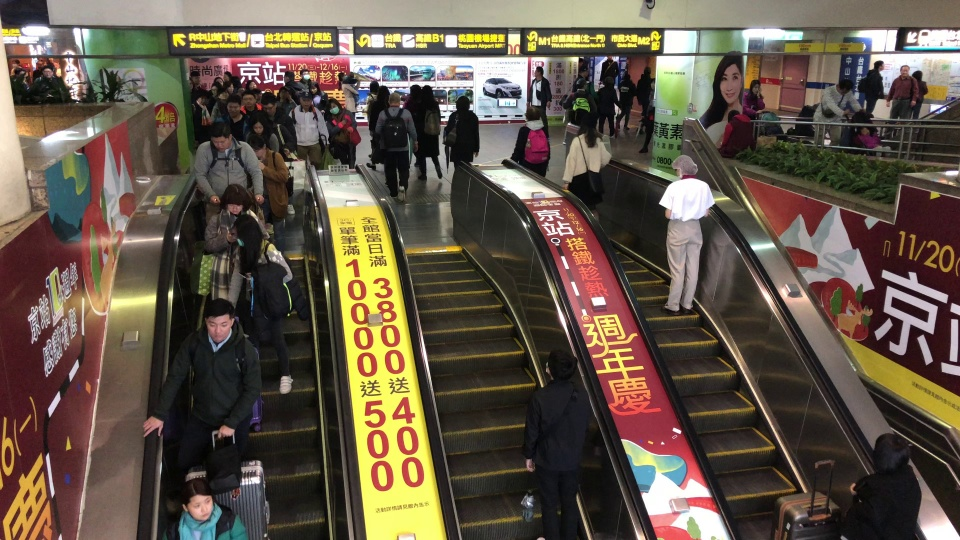person_head: (871, 432, 910, 474), (180, 477, 214, 522), (203, 297, 236, 342), (544, 348, 578, 381), (233, 213, 260, 247), (221, 183, 249, 214), (209, 121, 233, 151), (671, 155, 698, 180), (576, 111, 600, 136), (246, 134, 265, 159), (260, 91, 277, 116), (248, 113, 268, 134), (226, 94, 242, 117), (325, 97, 342, 115), (523, 105, 541, 122), (836, 78, 853, 95), (241, 90, 256, 108), (455, 95, 471, 111), (299, 91, 313, 108), (420, 85, 434, 101), (376, 85, 390, 100), (387, 92, 401, 106), (748, 79, 761, 94), (195, 89, 207, 105), (409, 84, 421, 99), (210, 81, 221, 97), (41, 65, 54, 78), (282, 70, 295, 83), (575, 77, 588, 90), (727, 109, 740, 122), (189, 70, 201, 84), (217, 86, 229, 100), (230, 75, 242, 89), (245, 78, 257, 91), (308, 81, 320, 94), (222, 80, 233, 94), (911, 70, 923, 82), (251, 88, 262, 101), (278, 86, 289, 99), (368, 80, 379, 93), (578, 65, 589, 78), (213, 76, 224, 88), (299, 68, 310, 80), (603, 76, 614, 88), (873, 60, 885, 71), (534, 65, 544, 78), (13, 67, 25, 77), (900, 64, 910, 76), (11, 58, 21, 68), (222, 71, 232, 81), (337, 71, 347, 81), (860, 126, 870, 135), (811, 102, 820, 111), (36, 60, 44, 70), (643, 66, 651, 76), (189, 77, 195, 90), (236, 86, 246, 93), (650, 77, 655, 90), (623, 73, 630, 81), (348, 71, 355, 78), (578, 58, 583, 67), (625, 57, 629, 64), (607, 55, 612, 59)
person_vbox: (142, 298, 263, 478), (521, 349, 591, 540), (232, 213, 294, 395), (657, 155, 715, 317), (839, 432, 922, 540), (192, 121, 265, 227), (202, 183, 268, 297), (560, 111, 611, 224), (245, 134, 289, 261), (161, 478, 250, 540), (375, 91, 418, 202), (812, 78, 866, 148), (287, 92, 329, 170), (510, 105, 550, 178), (266, 117, 296, 214), (413, 85, 442, 182), (444, 95, 480, 169), (325, 97, 357, 169), (260, 91, 297, 153), (365, 84, 390, 171), (886, 64, 919, 124), (525, 65, 552, 138), (717, 109, 756, 159), (401, 84, 422, 168), (562, 78, 597, 127), (215, 94, 249, 142), (597, 76, 622, 138), (637, 77, 655, 154), (248, 112, 280, 153), (636, 66, 654, 134), (615, 73, 636, 131), (336, 71, 359, 121), (864, 60, 885, 114), (190, 89, 211, 141), (856, 126, 891, 156), (366, 80, 379, 158), (742, 79, 765, 120), (909, 70, 928, 119), (794, 102, 820, 137), (307, 81, 328, 124), (210, 87, 230, 123), (341, 71, 360, 108), (282, 70, 302, 105), (33, 65, 60, 90), (275, 86, 297, 116), (239, 90, 262, 118), (598, 55, 619, 85), (206, 81, 222, 116), (570, 65, 589, 93), (9, 58, 28, 85), (188, 70, 207, 90), (297, 68, 312, 91), (31, 60, 44, 85), (624, 57, 629, 74)
